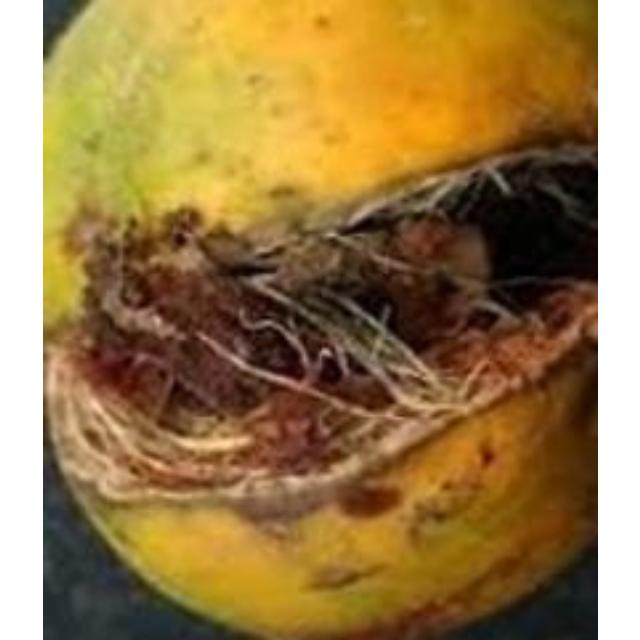damaged: (42, 0, 594, 637)
